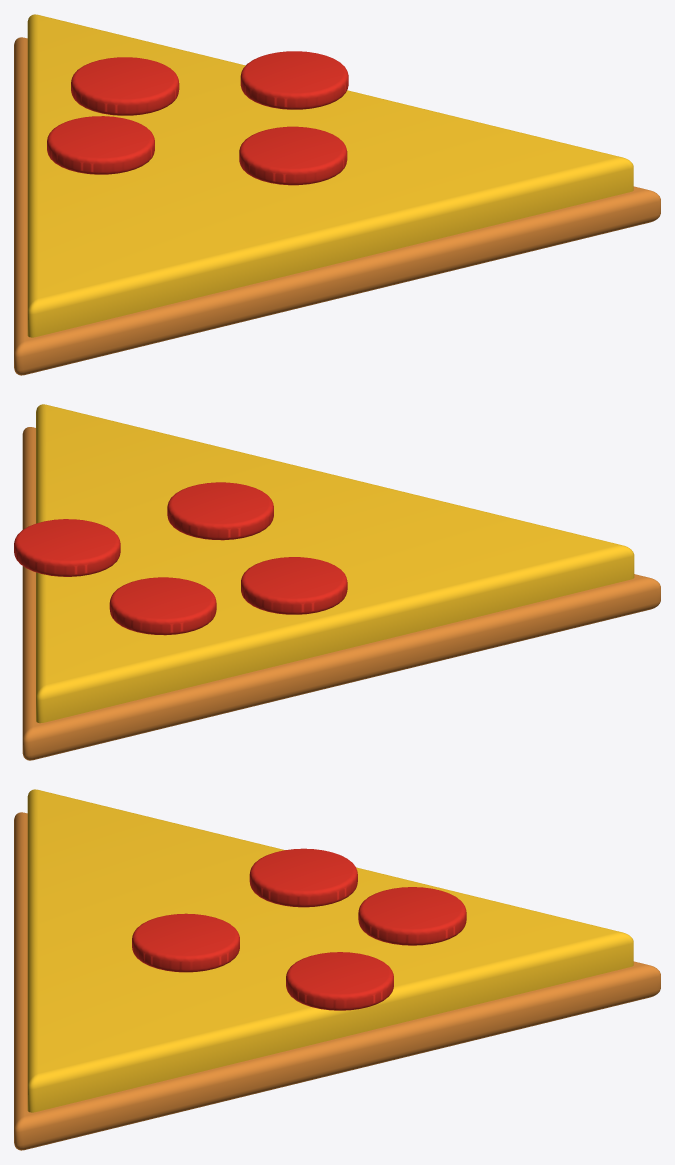
Rendered from Hat_Pizza.glb.
The picture shows the model from 3 angles, top to bottom: view 1: azimuth 30°, elevation 25°; view 2: azimuth 150°, elevation 25°; view 3: azimuth 270°, elevation 25°; orthographic projection.
Visible parts, largest first — view 1: Cylinder, Cylinder.001, Cylinder.002, Cylinder.004, Cylinder.005, Cylinder.003; view 2: Cylinder, Cylinder.001, Cylinder.005, Cylinder.002, Cylinder.003, Cylinder.004; view 3: Cylinder, Cylinder.001, Cylinder.005, Cylinder.003, Cylinder.004, Cylinder.002.
Boxes of the visible parts, <box> form: Cylinder: <box>27,14,633,337</box>; Cylinder.001: <box>14,37,660,375</box>; Cylinder.002: <box>239,126,347,185</box>; Cylinder.004: <box>240,51,348,109</box>; Cylinder.005: <box>71,57,179,115</box>; Cylinder.003: <box>47,116,154,174</box>; Cylinder: <box>36,404,634,723</box>; Cylinder.001: <box>22,427,660,760</box>; Cylinder.005: <box>109,577,216,635</box>; Cylinder.002: <box>167,482,273,540</box>; Cylinder.003: <box>241,557,347,614</box>; Cylinder.004: <box>14,519,120,576</box>; Cylinder: <box>27,789,633,1112</box>; Cylinder.001: <box>14,812,660,1150</box>; Cylinder.005: <box>358,887,466,945</box>; Cylinder.003: <box>249,848,357,907</box>; Cylinder.004: <box>286,952,393,1010</box>; Cylinder.002: <box>132,913,239,972</box>.
Size of the model in its own units: 0.823 by 0.1 by 0.7144.
